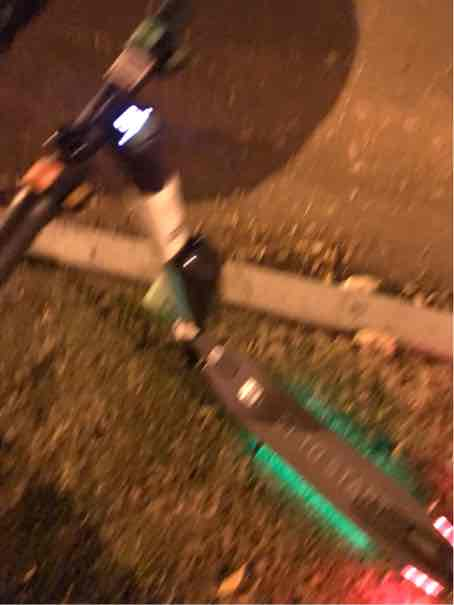scooter: (1, 1, 453, 601)
